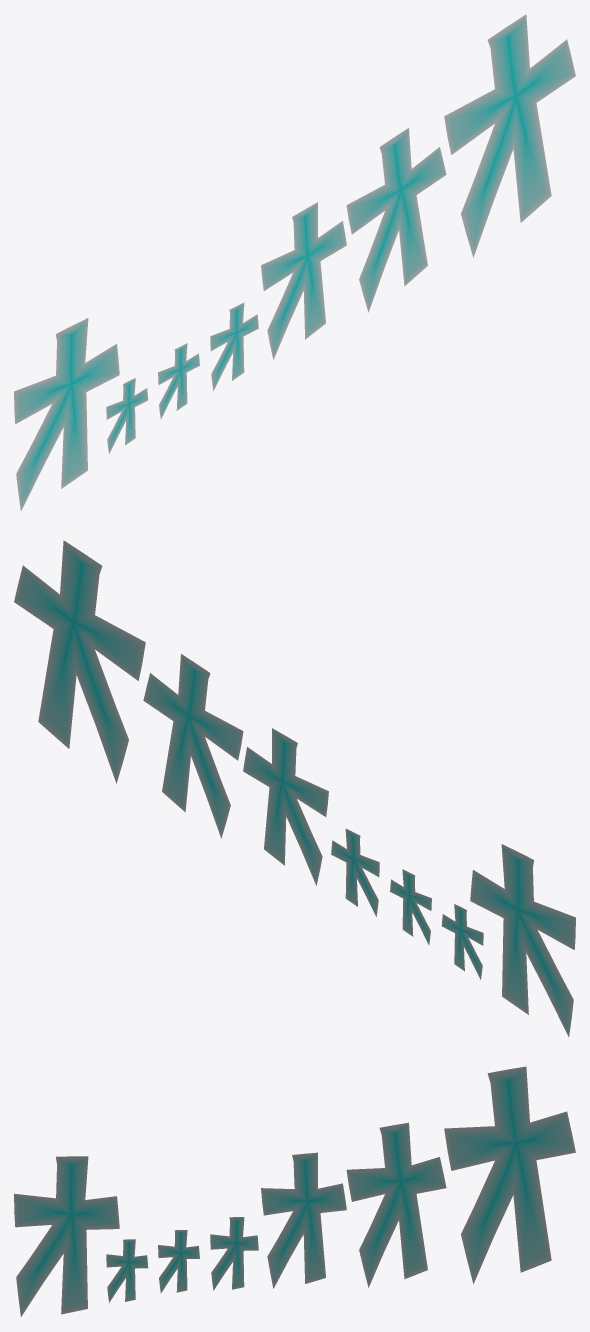
The model's file is SM_EFF_Text_D28NJ1_01.glb.
3 renders of one model, top to bottom at view 1: azimuth 30°, elevation 25°; view 2: azimuth 150°, elevation 25°; view 3: azimuth 330°, elevation 25°, orthographic.
Visible parts, largest first — view 1: SM_EFF_Text_D28NJ1_01; view 2: SM_EFF_Text_D28NJ1_01; view 3: SM_EFF_Text_D28NJ1_01.
Boxes of the visible parts, x1,y1,x2,y2 form: SM_EFF_Text_D28NJ1_01: (14, 14, 575, 510); SM_EFF_Text_D28NJ1_01: (14, 540, 575, 1036); SM_EFF_Text_D28NJ1_01: (14, 1066, 575, 1316).
Size of the model in its own units: 6.32 by 4.03 by 0.00078.
